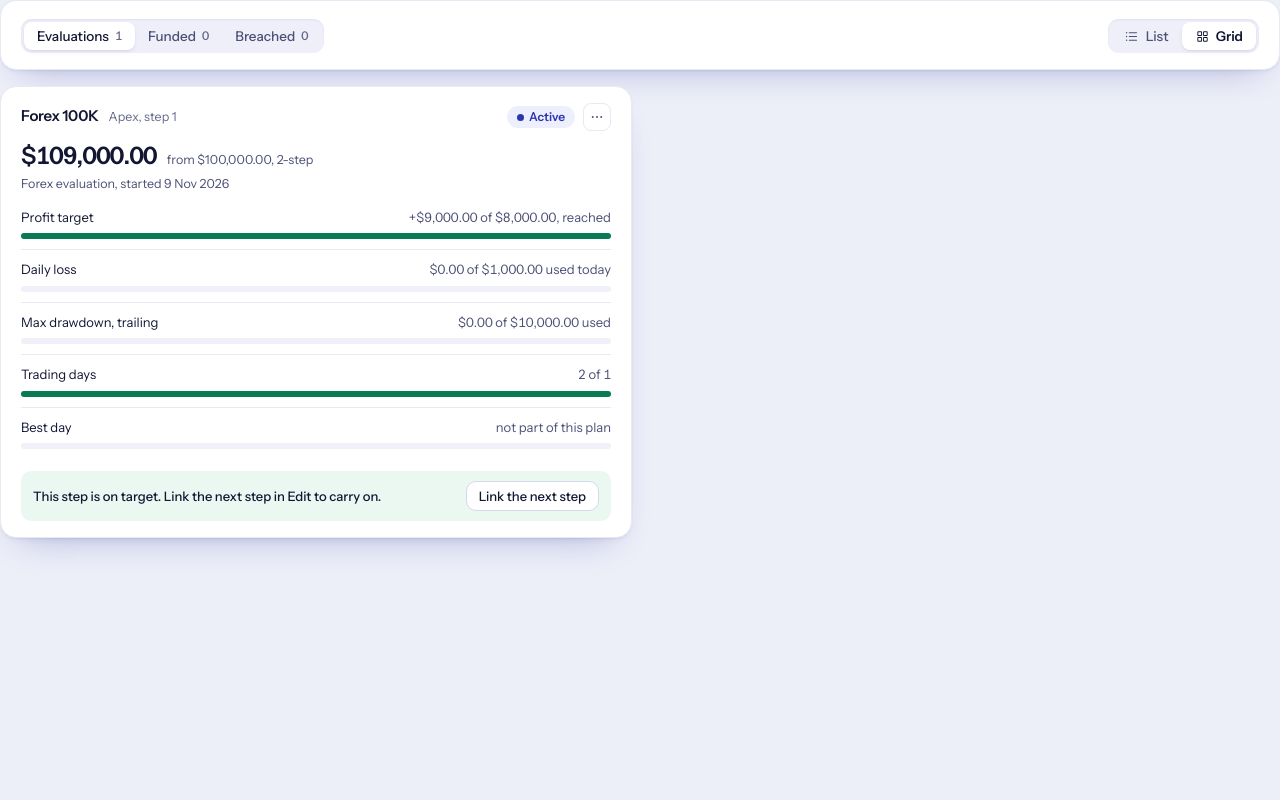
Scenario: a met step before an unlinked one says so and offers Edit to link the next
This screenshot has width=1280, height=800.
Expected: the text "This step is on target. Link the next step in Edit to carry on." is shown, [33,488,381,504]
Click the button "Link the next step": (532, 496) [466,481,599,511]
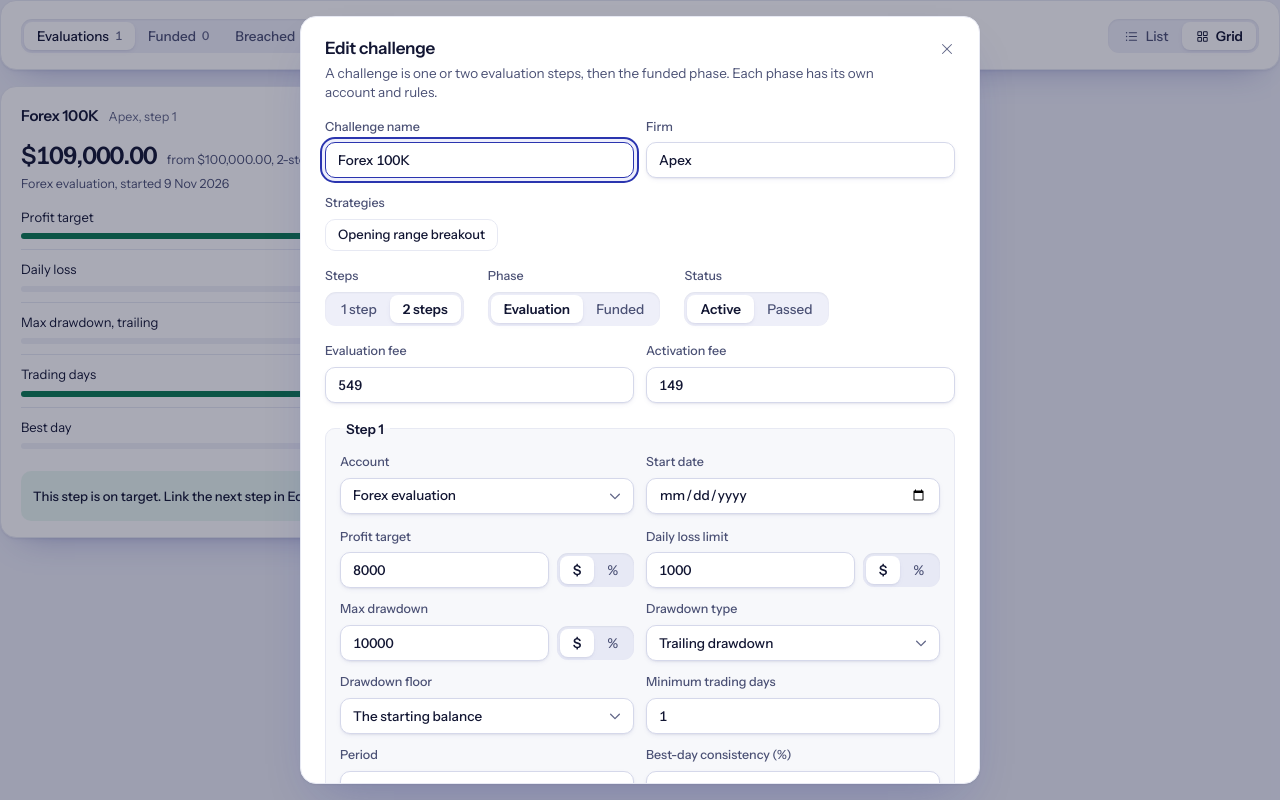
Result: the dialog is shown at [300,16,980,784]
